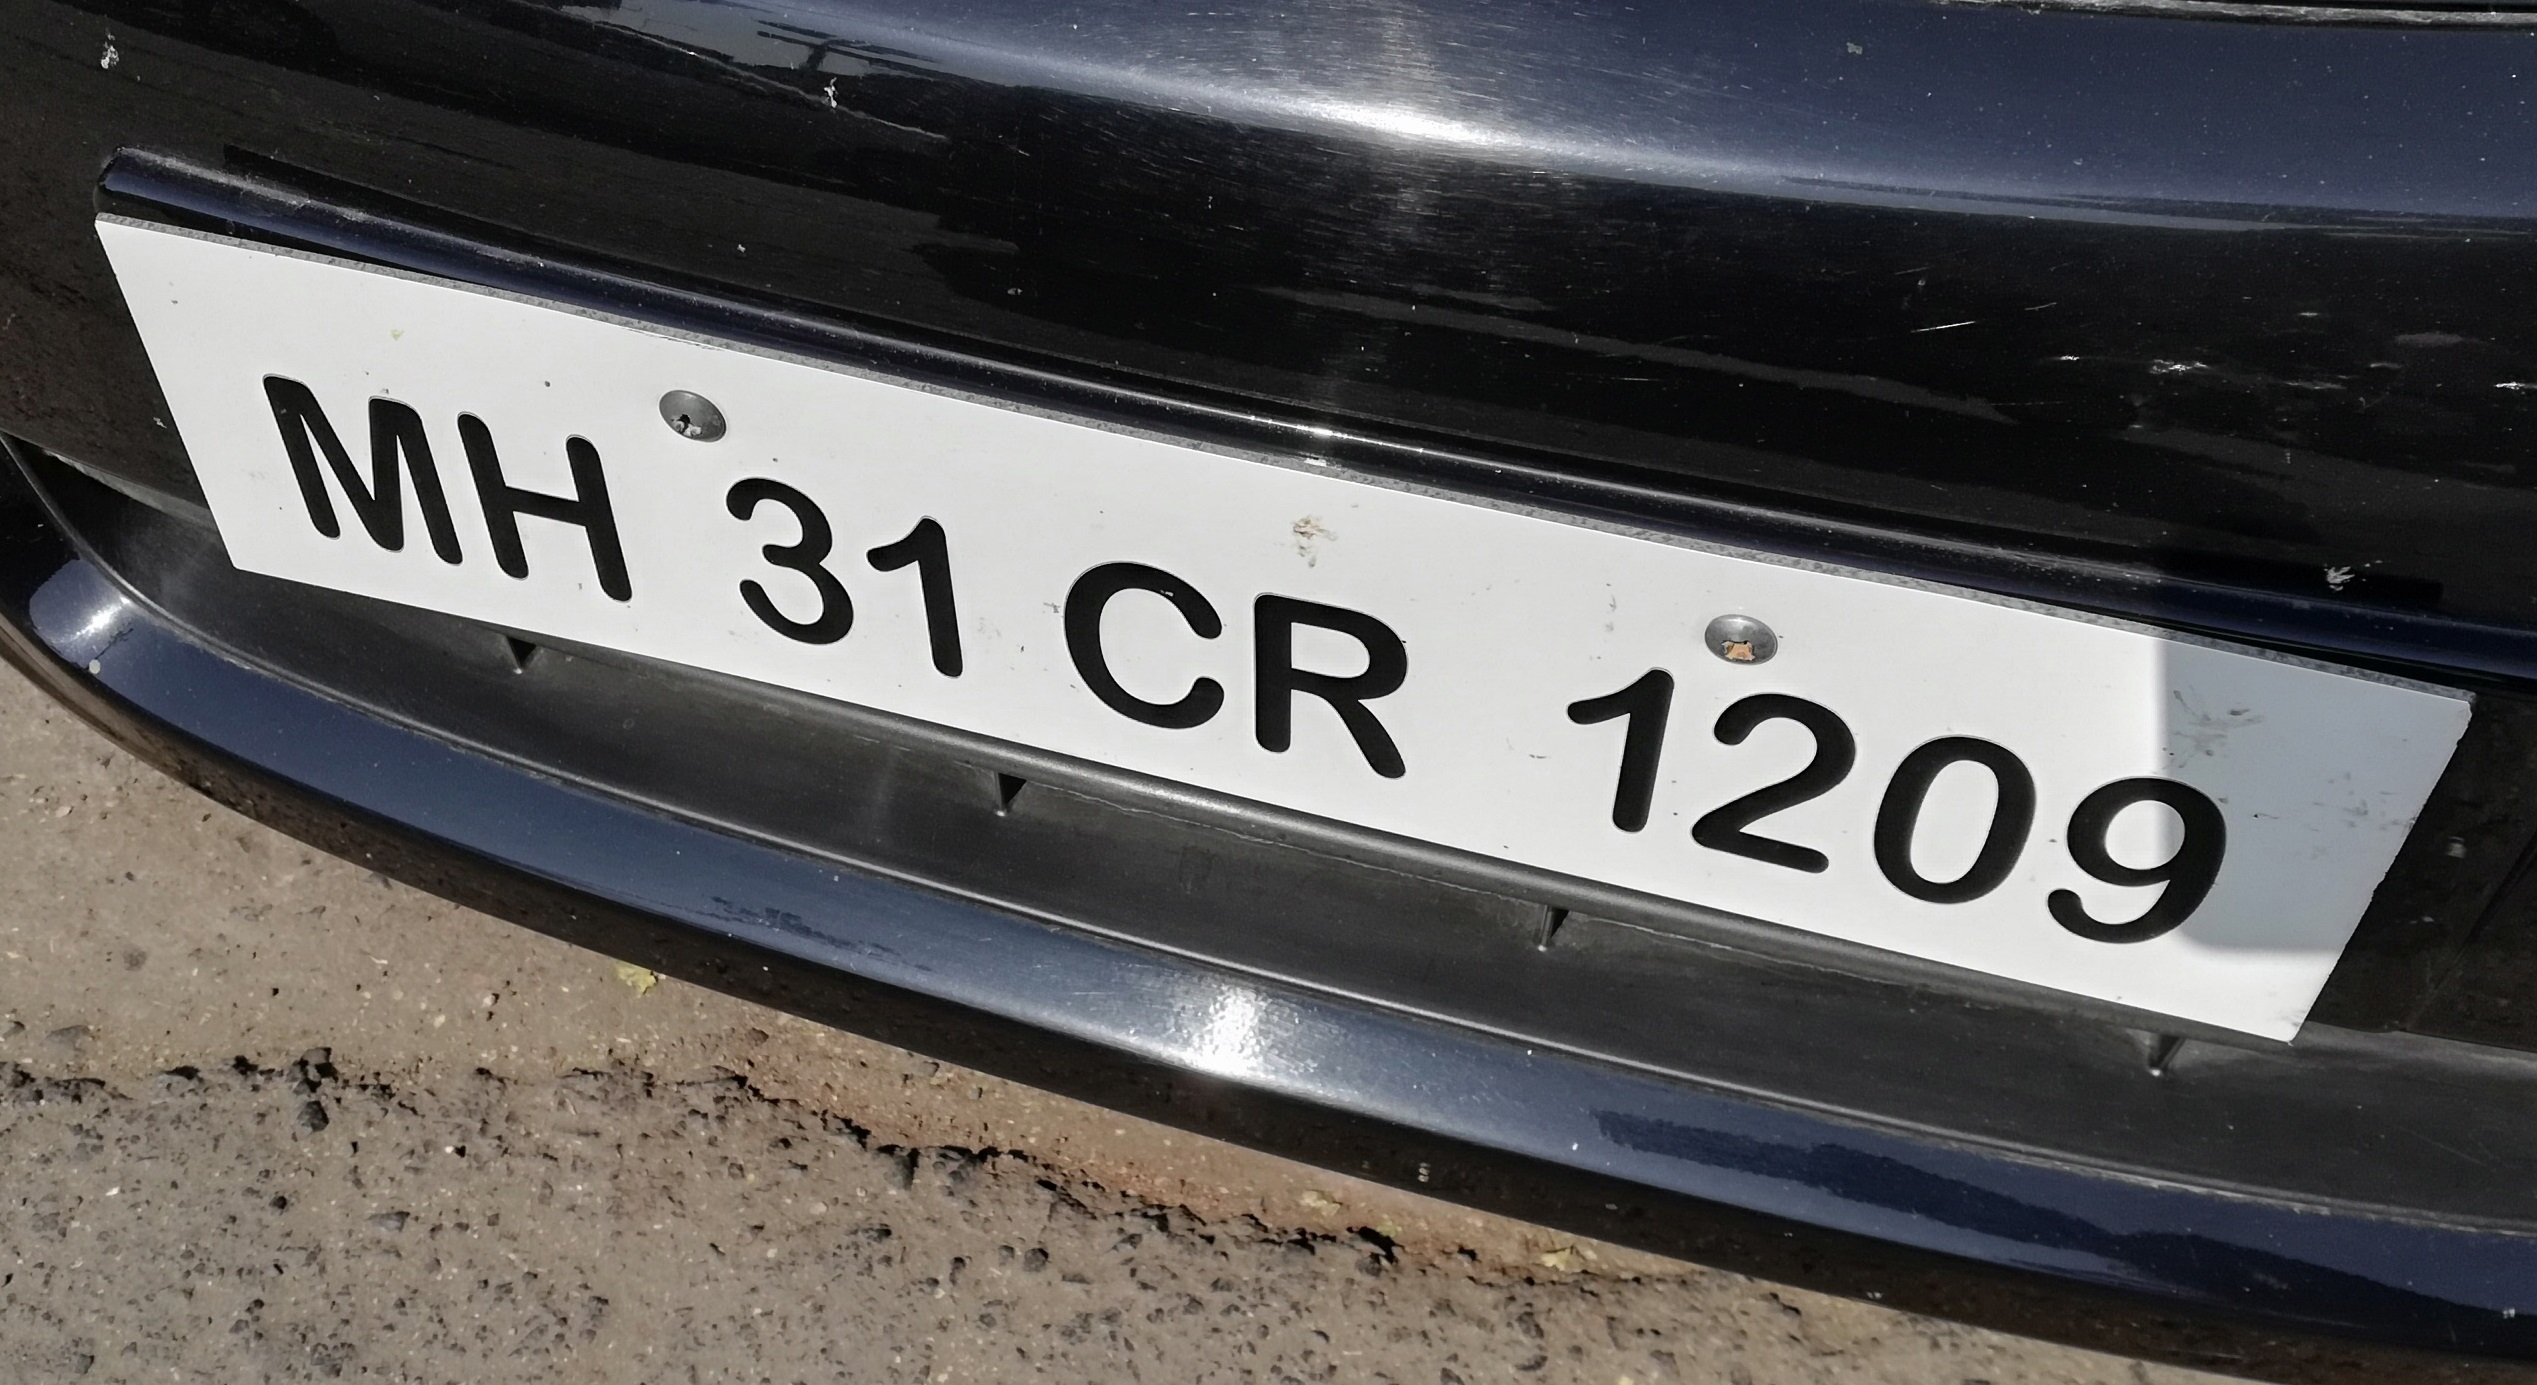numberplate: (85, 210, 2475, 1074)
